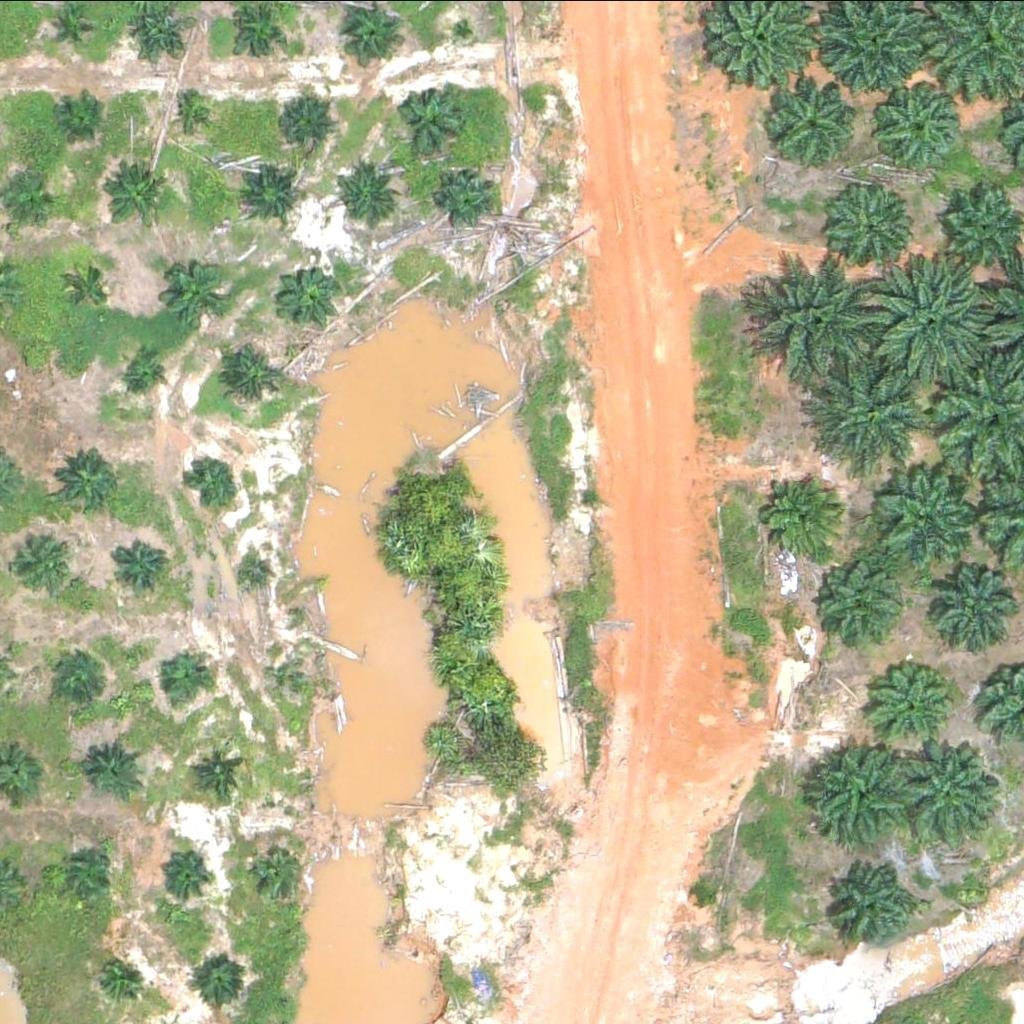Kelapa_Sawit: (748, 254, 874, 379), (869, 259, 995, 384), (804, 345, 930, 470), (876, 463, 977, 563), (900, 740, 1001, 840), (807, 744, 908, 844), (817, 176, 917, 276), (817, 553, 905, 641), (872, 660, 960, 748), (832, 861, 920, 949), (873, 77, 961, 164), (774, 78, 862, 165), (760, 474, 848, 561), (393, 88, 469, 163), (123, 1, 186, 64), (164, 264, 227, 327), (87, 739, 150, 802), (341, 167, 404, 230), (273, 268, 336, 331), (438, 168, 501, 231), (105, 166, 168, 228), (53, 449, 116, 511), (16, 531, 79, 593), (218, 346, 281, 408), (243, 161, 305, 223), (271, 94, 333, 156), (154, 654, 205, 704), (55, 650, 106, 700), (60, 847, 111, 897), (158, 847, 209, 897), (197, 747, 248, 797), (120, 539, 170, 589), (187, 458, 237, 508), (11, 179, 61, 229), (198, 956, 248, 1006), (233, 9, 283, 59), (58, 93, 108, 143), (67, 262, 117, 312), (124, 347, 174, 397), (259, 845, 309, 895), (94, 953, 144, 1003), (179, 89, 217, 127), (54, 11, 92, 48), (240, 558, 265, 583), (17, 348, 42, 373), (274, 653, 299, 678)
